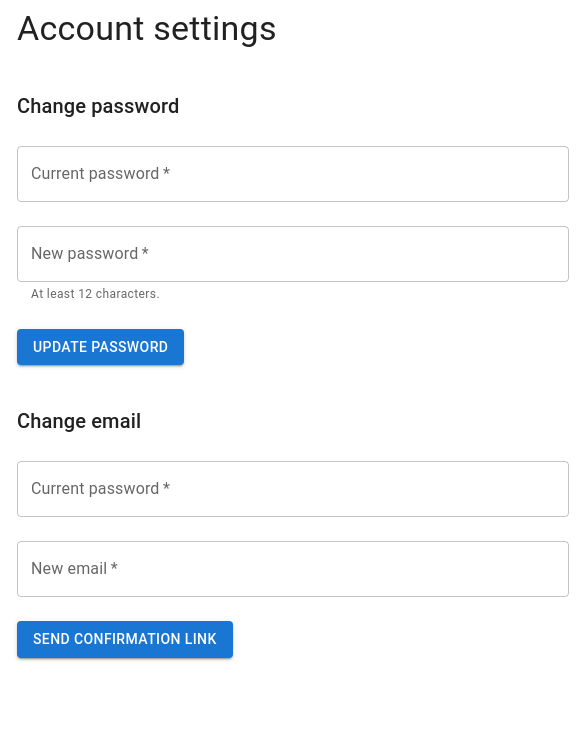
AccountPage › surfaces a password-policy error on the password form
Type "the-old-password" into the password field labelled "Current password *" below "Change password" at (293, 174), box [17,146,569,202]
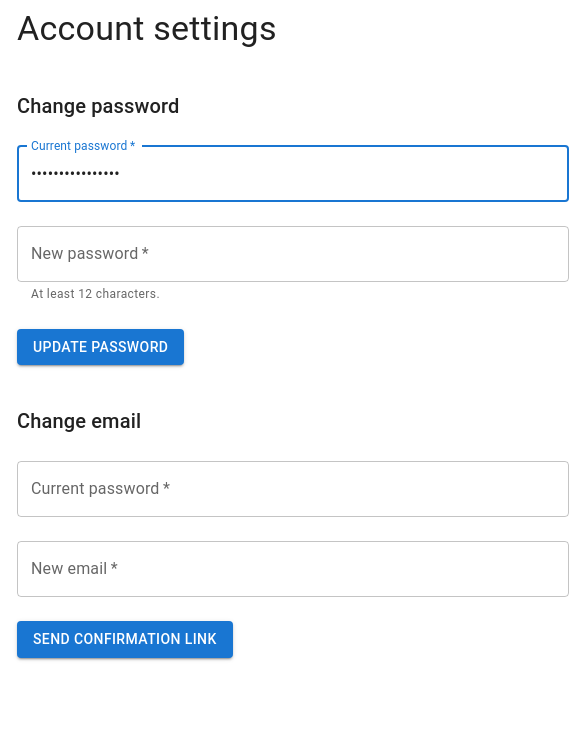
Type "tooshort" into the password field labelled "New password *" at (293, 254), box [17,226,569,282]
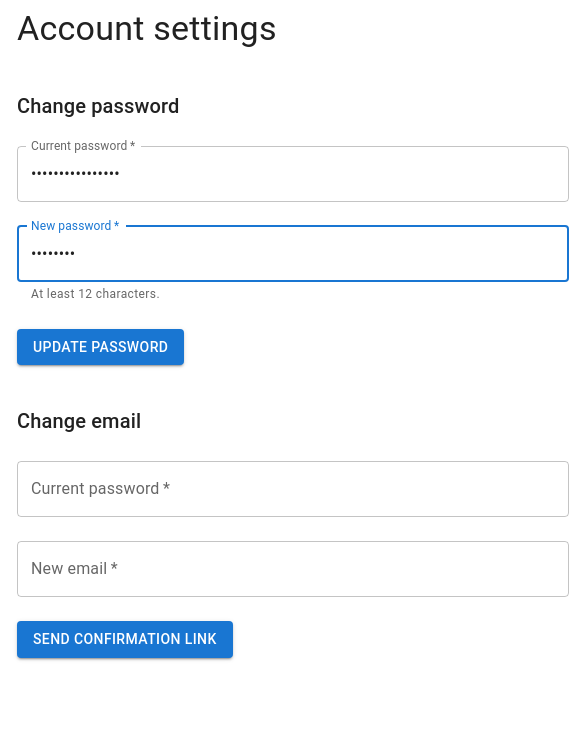
Click the button "Update password" at (101, 347), box [17,329,184,365]
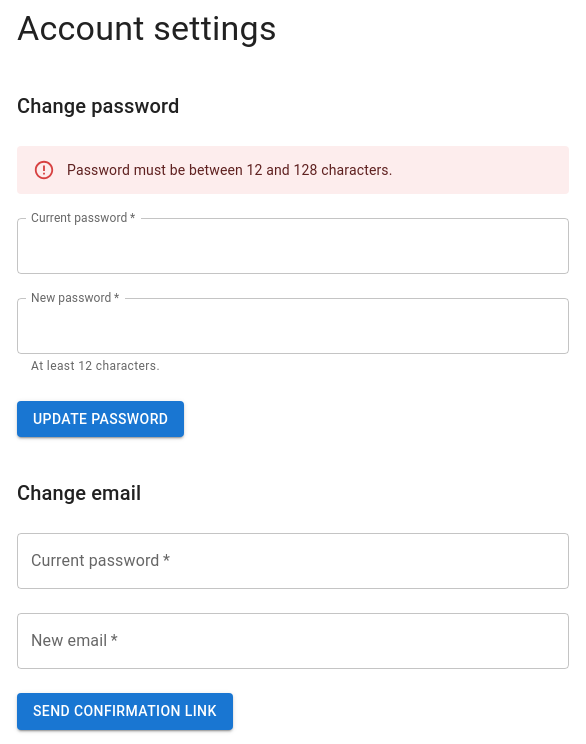
expect the text "Password must be between 12 and 128 characters." is shown: met, box [67,162,393,178]
